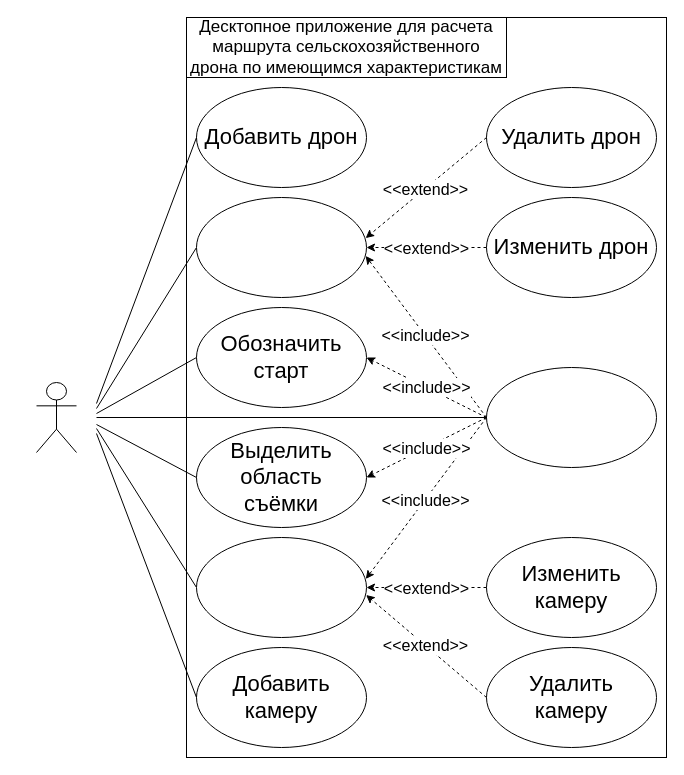
Some shapes in this 684 by 775 pixel diagram are drawn without their labels. The centre of each missing label's shape, as x and y in pixels:
"Выбрать дрон" belongs at [281,247].
"Выбрать камеру" belongs at [281,587].
"Пользователь" belongs at [56,417].
"Построить маршрут" belongs at [571,417].
